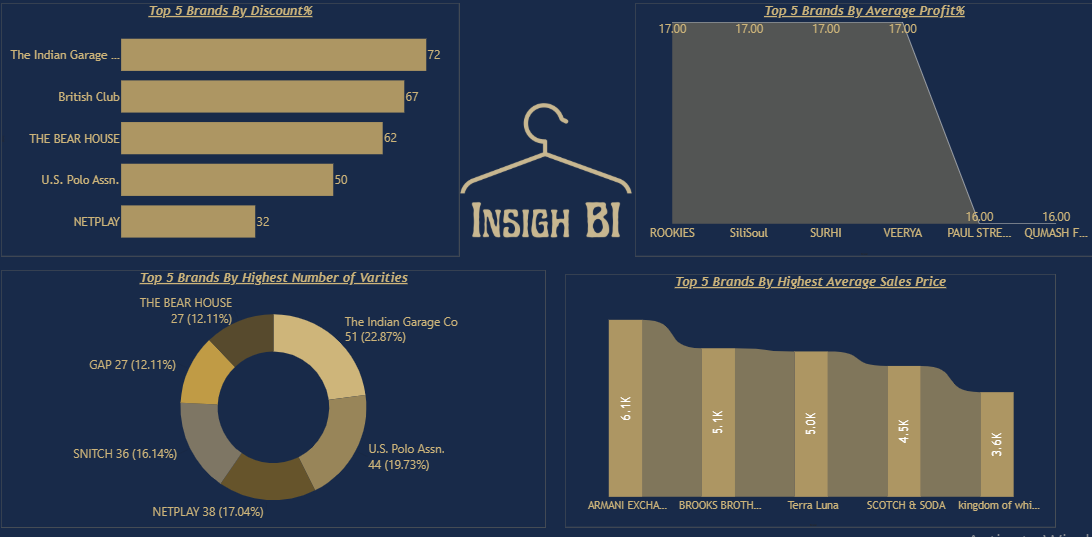

The page's visual inventory and layout, read from the dashboard file:
{"tool":"powerbi","page":{"name":"Details","canvas":[6912,3456],"ordinal":1},"visuals":[{"type":"clusteredBarChart","title":"Top 5 Brands By Discount%","fields":{"Category":["Men+Tshirt.Brand"],"Y":["Avg(Men+Tshirt.Discount %)"]},"box":[81.6,81.6,2839.2,1569.3],"z":2000},{"type":"donutChart","title":"Top 5 Brands By Highest Number of Varities","fields":{"Category":["Men+Tshirt.Brand"],"Y":["Count(Men+Tshirt.Title)"]},"box":[81.6,1732.5,3374.4,1596.5],"z":2001},{"type":"ribbonChart","title":"Top 5 Brands By Highest Average Sales Price","fields":{"Category":["Men+Tshirt.Brand"],"Y":["Avg(Men+Tshirt.Sales Price)"]},"box":[3573.9,1759.7,3038.7,1569.3],"z":2002},{"type":"areaChart","title":"Top 5 Brands By Average Profit%","fields":{"Category":["Men+Tshirt.Brand"],"Y":["Avg(Men+Tshirt.Profit %)"]},"box":[4009.3,81.6,2839.2,1569.3],"z":2003}]}

Visuals, with their boxes in screenshot pixels (x1, y1, x2, y2), scaled from the page's 6912x3456 canvas onto the 1092x537 screenshot:
"Top 5 Brands By Discount%" clusteredBarChart: [left=13, top=13, right=461, bottom=257]
"Top 5 Brands By Highest Number of Varities" donutChart: [left=13, top=269, right=546, bottom=517]
"Top 5 Brands By Highest Average Sales Price" ribbonChart: [left=565, top=273, right=1045, bottom=517]
"Top 5 Brands By Average Profit%" areaChart: [left=633, top=13, right=1082, bottom=257]
